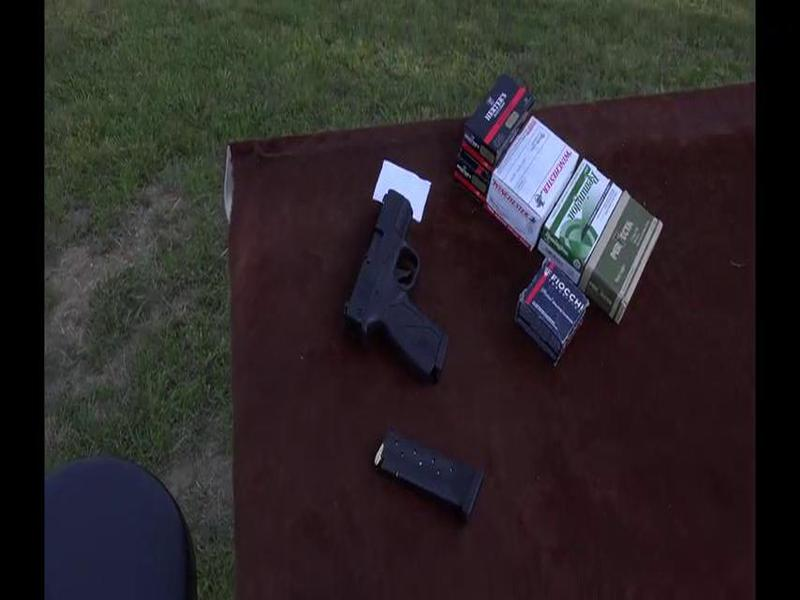Pistola: (307, 173, 458, 400)
